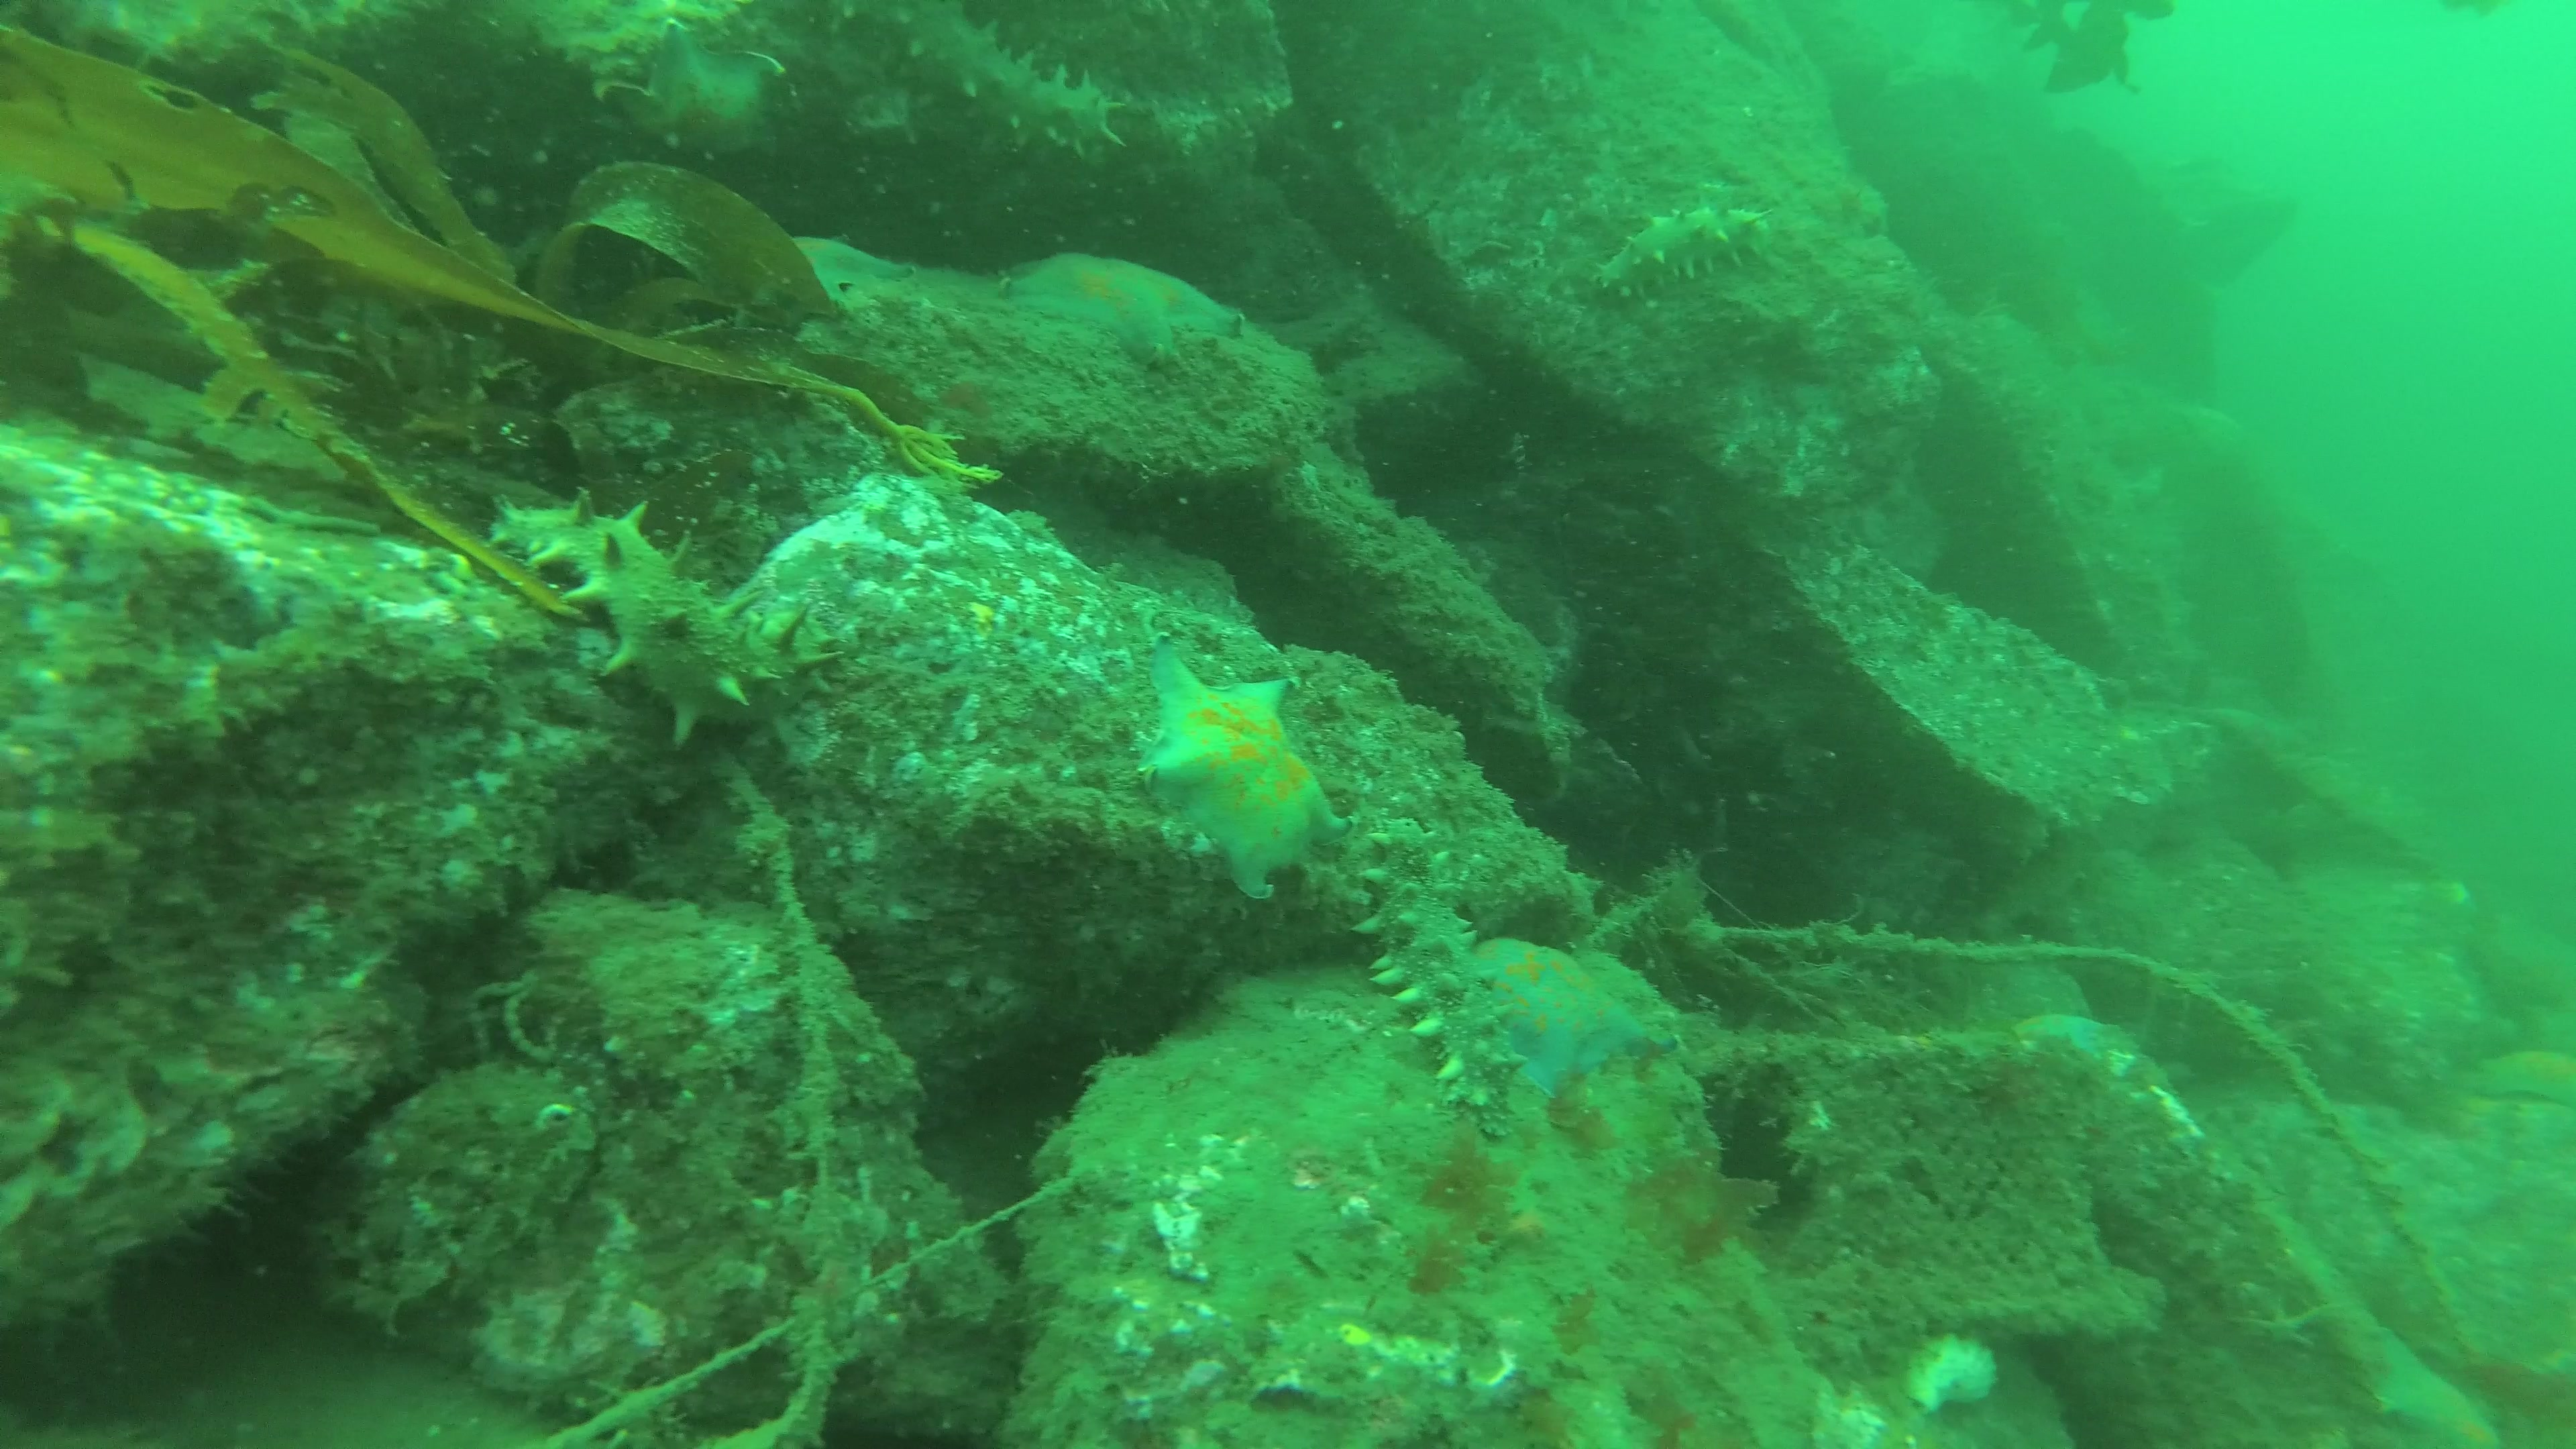holothurian: (487, 487, 840, 764), (1350, 814, 1529, 1145), (867, 0, 1132, 161), (1594, 207, 1771, 306)
starfish: (1139, 635, 1352, 902), (1447, 947, 1683, 1090), (591, 18, 793, 163), (1001, 251, 1249, 363), (740, 232, 924, 317), (2013, 1014, 2123, 1069), (2484, 1049, 2576, 1106)
